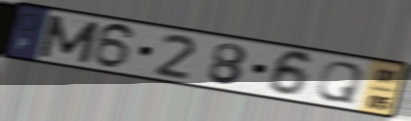2: (153, 33, 199, 80)
6: (264, 49, 318, 100), (91, 22, 141, 71)
8: (208, 43, 249, 87)
M: (36, 13, 103, 66)
Q: (313, 60, 367, 105)
